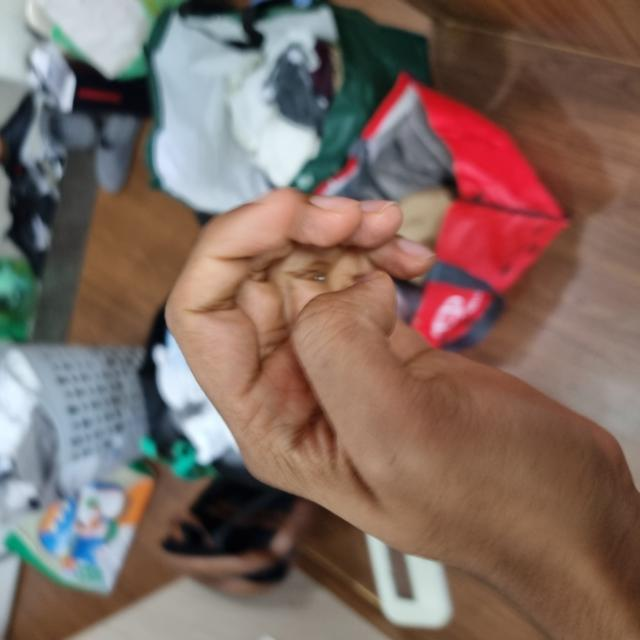Rock: (0, 166, 452, 639)
